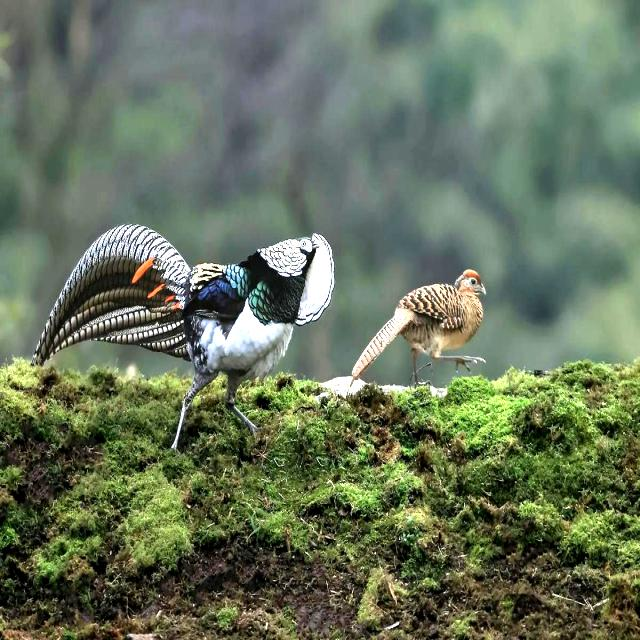Chrysolophus amherstiae: (32, 224, 194, 364)
